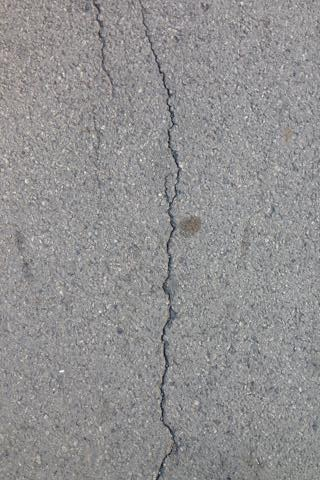A: (137, 4, 186, 480), (88, 1, 118, 192)
